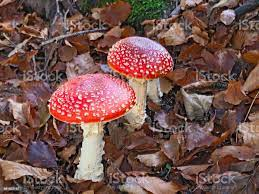Amanita muscaria: (43, 72, 137, 183), (101, 31, 178, 128)
